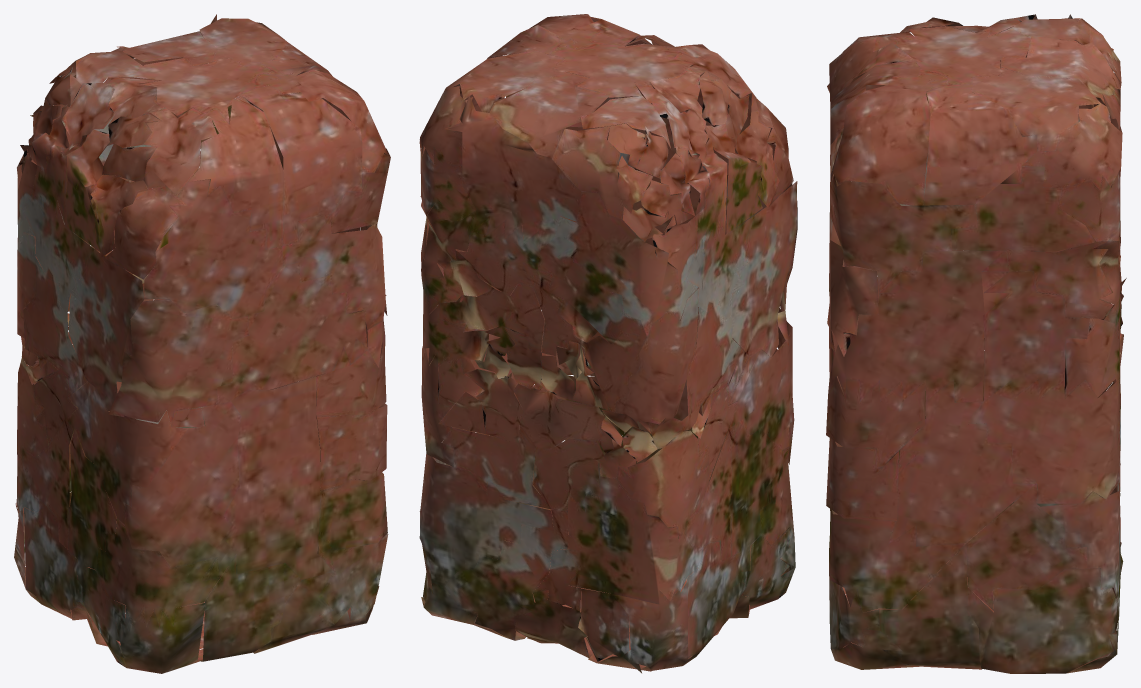
Rendered from ruin_badlands.glb.
3 renders of one model, left to right at view 1: azimuth 30°, elevation 25°; view 2: azimuth 150°, elevation 25°; view 3: azimuth 270°, elevation 25°, orthographic. The views are drawn at different scales.
Visible parts, largest first — view 1: ruin_badlands_p2; view 2: ruin_badlands_p2; view 3: ruin_badlands_p2.
Part boxes in pixels (<box>): ruin_badlands_p2: <box>14,14,390,673</box>; ruin_badlands_p2: <box>419,14,797,673</box>; ruin_badlands_p2: <box>826,14,1126,673</box>.
Size of the model in its own units: 1.04 by 1.98 by 0.9542.
Materials: 1 (1 with a texture image).
